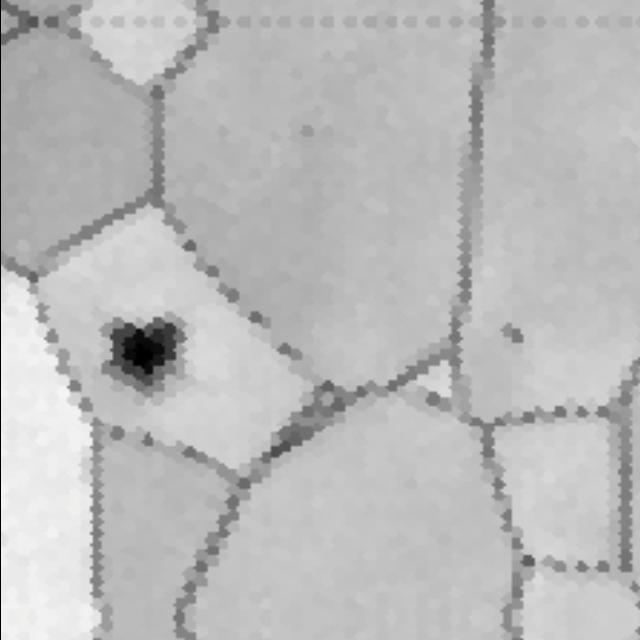good_void: (100, 311, 186, 400), (501, 317, 528, 348)
